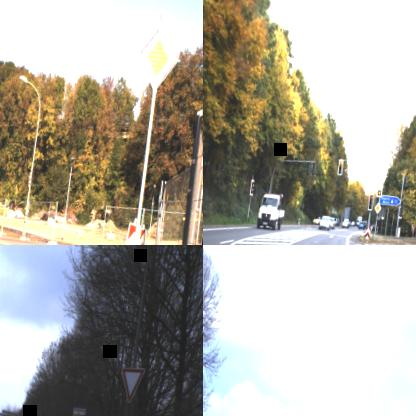give way: (116, 364, 145, 404)
priority road: (134, 22, 182, 92), (373, 200, 382, 214)
